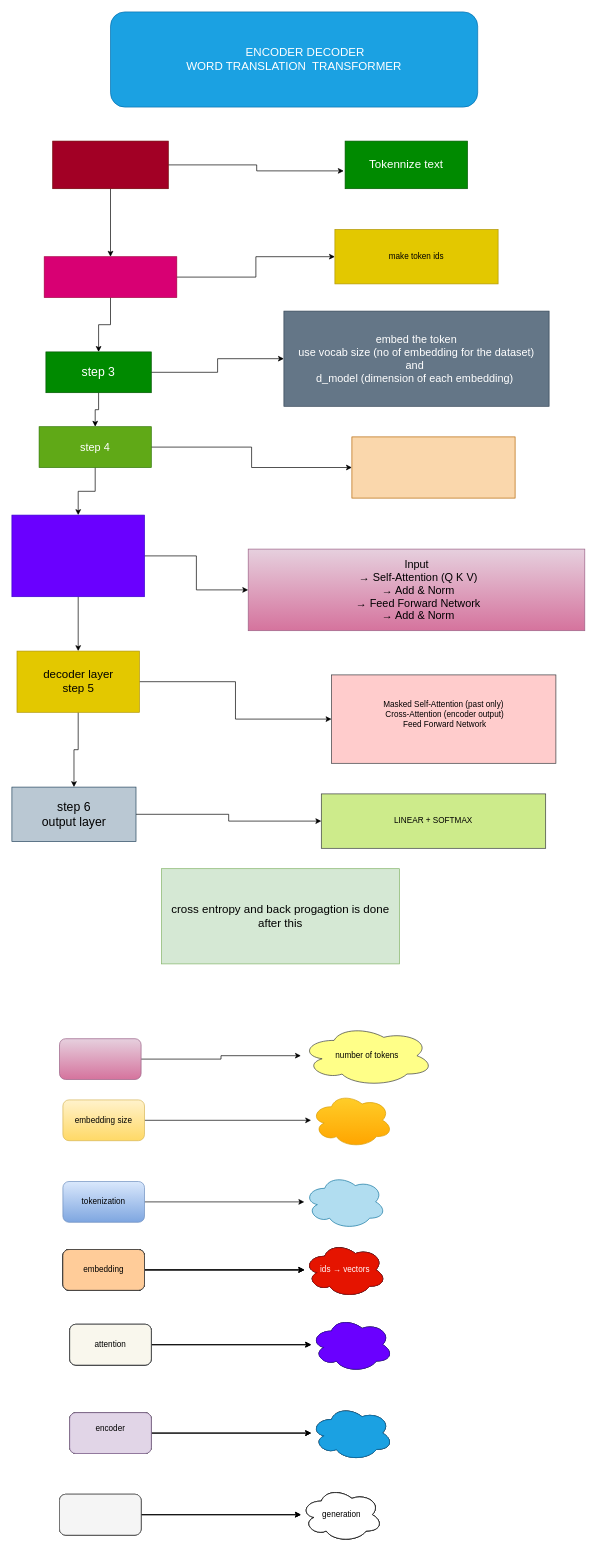
The diagram is 597 pixels wide and 1554 high, and some of its shapes have lost their labels. The shapes that lost their labels are listed below. From the top down, each one's box as (x1, y1, x2, y2) in pixels, then its label:
(52, 140, 168, 189): step 1
(44, 256, 177, 298): step 2
(351, 436, 515, 498): postional encoding used Sinusoidal Positional Encoding
(11, 514, 144, 597): encoder layer step 4
(59, 1038, 141, 1080): vocab_size
(310, 1092, 393, 1148): vector length
(304, 1174, 386, 1229): text → ids
(310, 1317, 393, 1372): context mixing
(310, 1405, 393, 1460): understanding
(59, 1494, 141, 1535): decoder
